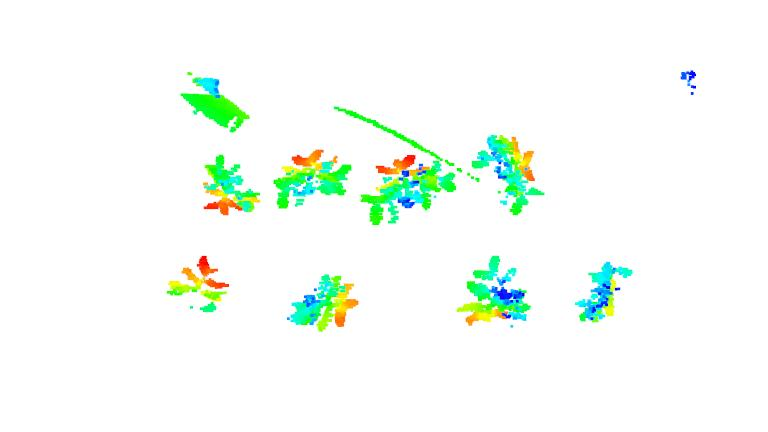chickpea: (358, 152, 460, 228), (472, 133, 546, 215), (454, 255, 533, 326), (274, 149, 351, 210), (285, 273, 361, 331), (162, 254, 232, 315), (198, 151, 262, 215), (576, 259, 631, 326)
